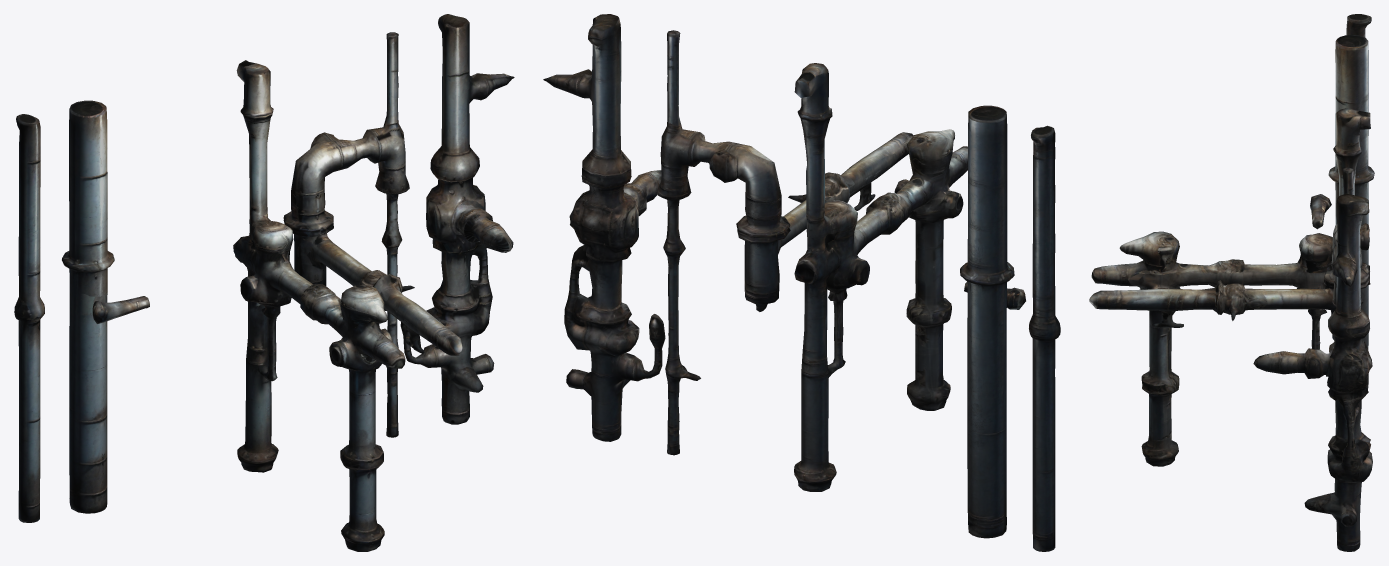
The model's file is Creepy_old_shining_pi_0124161457_texture.fbx.
3 views of the same model, side by side, from view 1: azimuth 30°, elevation 25°; view 2: azimuth 150°, elevation 25°; view 3: azimuth 270°, elevation 25° (orthographic). The views are drawn at different scales.
Parts seen in each view (by area): view 1: Mesh1_Mesh1.004; view 2: Mesh1_Mesh1.004; view 3: Mesh1_Mesh1.004.
Part boxes in pixels (box(x1,y1,x2,y2)): Mesh1_Mesh1.004: box(14, 14, 514, 551); Mesh1_Mesh1.004: box(543, 14, 1060, 551); Mesh1_Mesh1.004: box(1089, 14, 1374, 551).
Size of the model in its own units: 1292 by 1000 by 735.
Materials: 1 (1 with a texture image).
